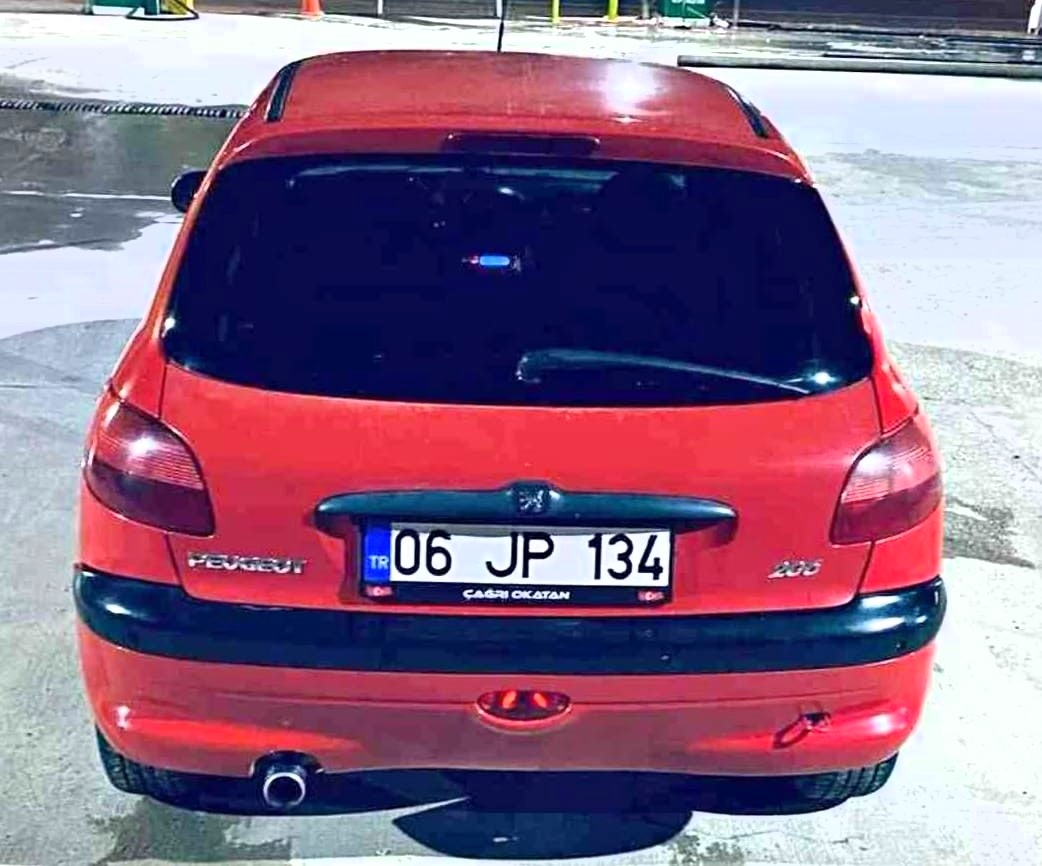plaka: (387, 511, 679, 595)
